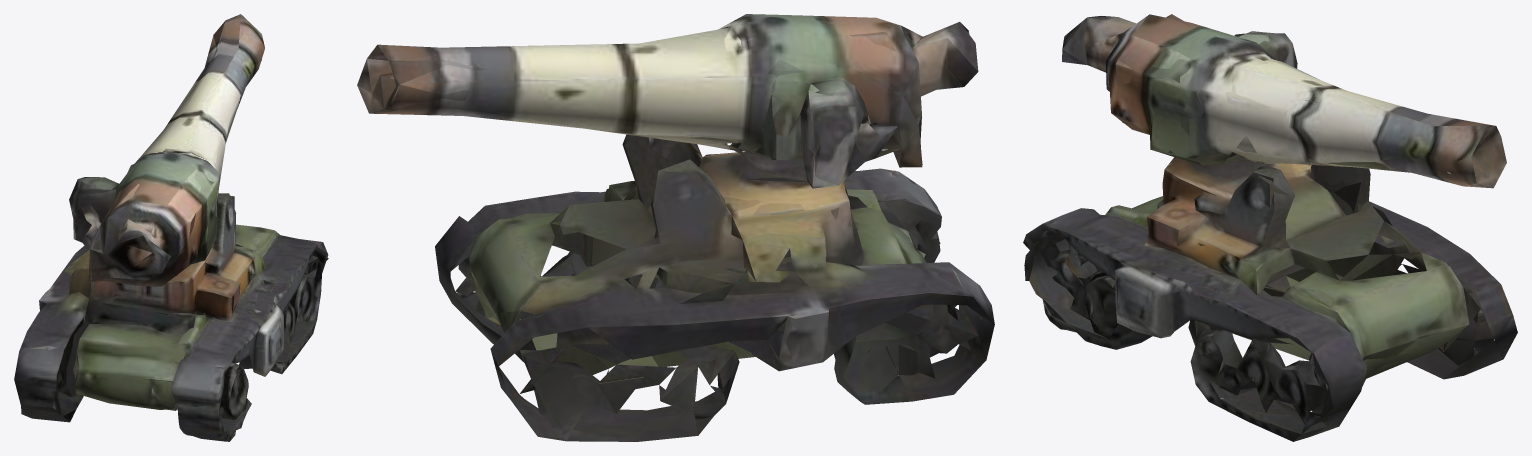
The model's file is railgun.glb.
3 views of the same model, side by side, from view 1: azimuth 30°, elevation 25°; view 2: azimuth 150°, elevation 25°; view 3: azimuth 270°, elevation 25° (orthographic). The views are drawn at different scales.
Visible parts, largest first — view 1: level; view 2: level; view 3: level.
Boxes of the visible parts, <box> form: level: <box>14,14,328,441</box>; level: <box>357,14,994,441</box>; level: <box>1023,14,1517,441</box>.
Bounding box in the file's own units: 0.8897 × 0.6261 × 0.8597.
1 material, 1 textured.
